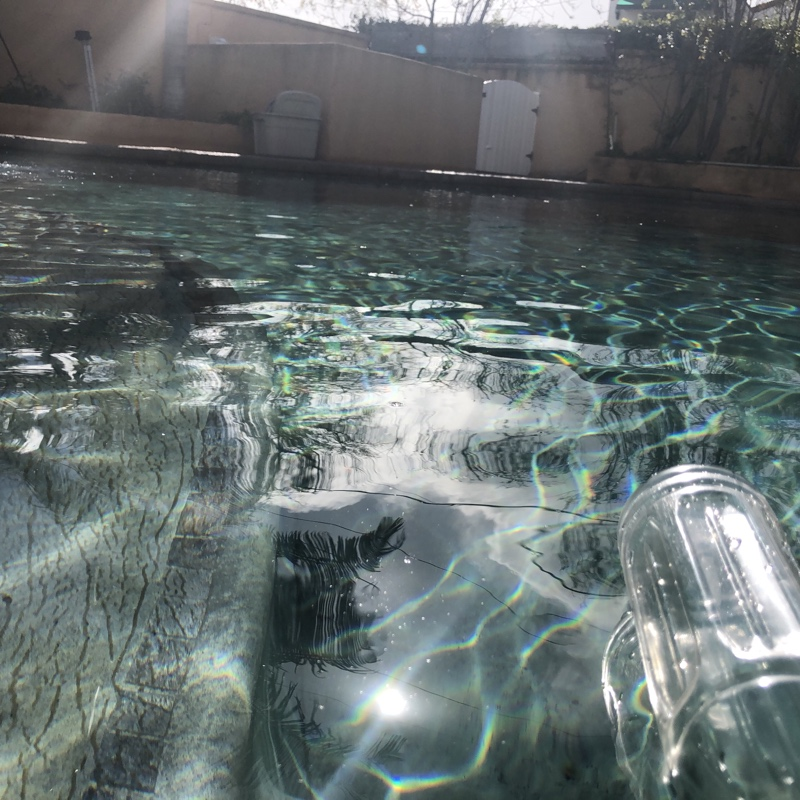Plastic Bottle: (614, 456, 800, 800)
